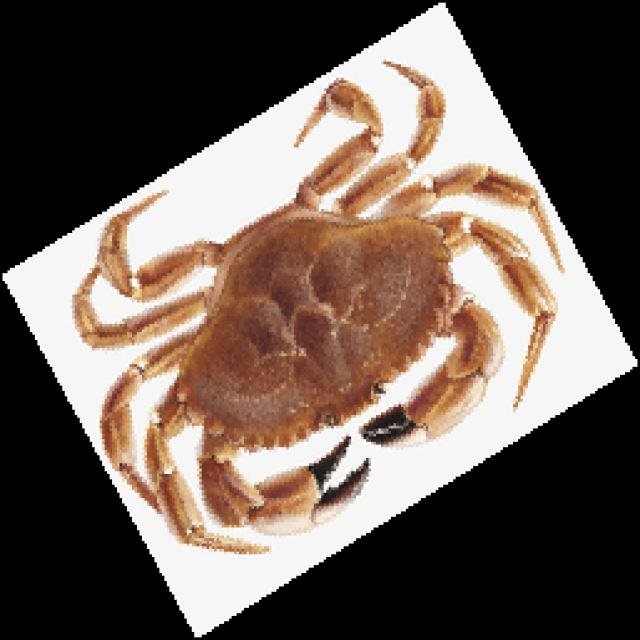Native Jonah crab: (72, 62, 560, 552)
